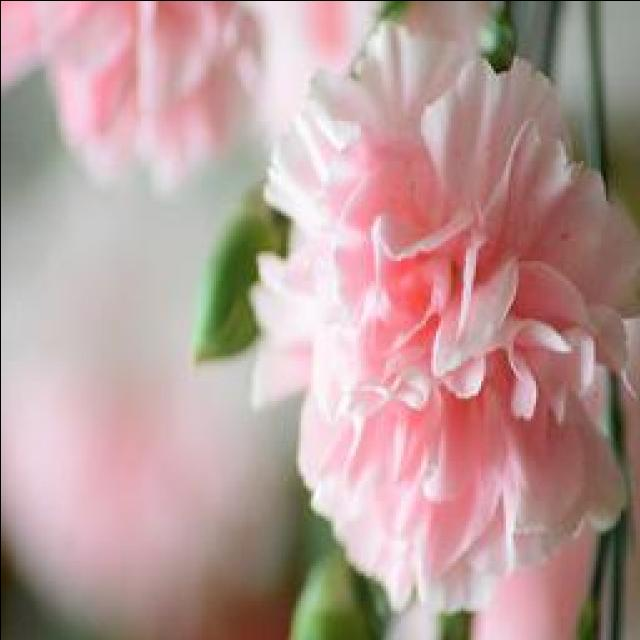carnation: (232, 17, 638, 600)
